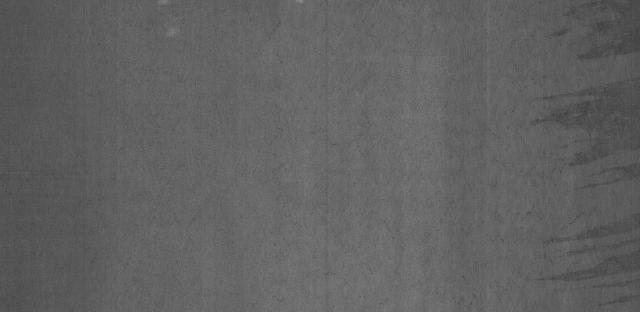water_spot: (524, 18, 634, 290)
